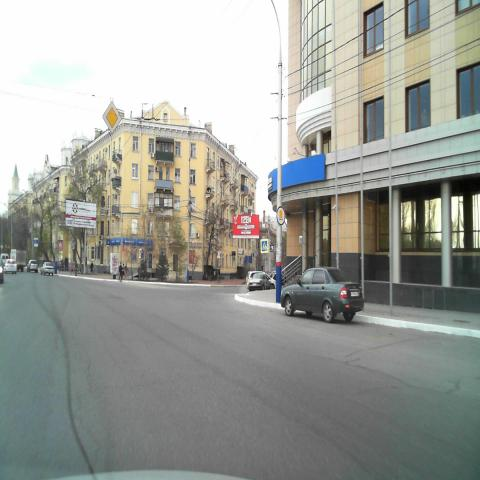3_32: (276, 205, 286, 227)
